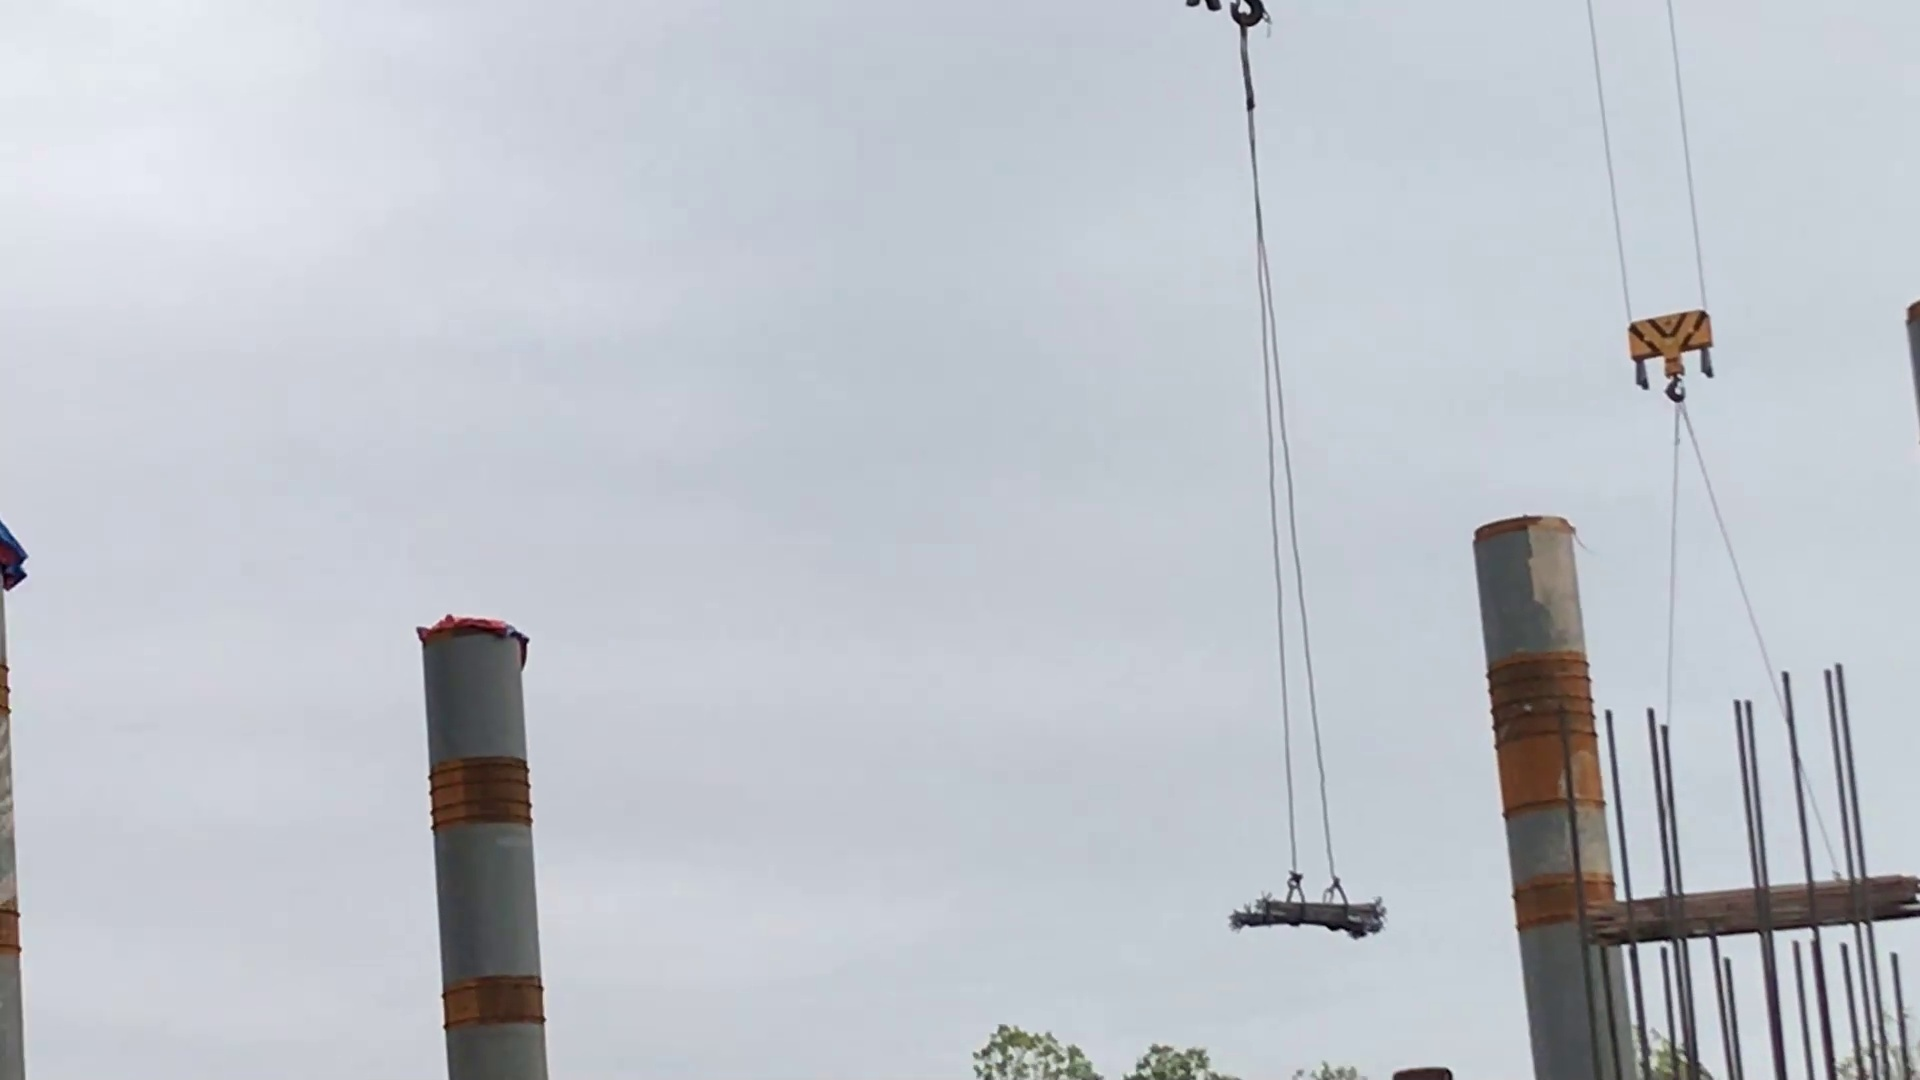hook: (1623, 309, 1722, 418)
rebar: (1226, 885, 1396, 953)
wood: (1567, 865, 1920, 949)
